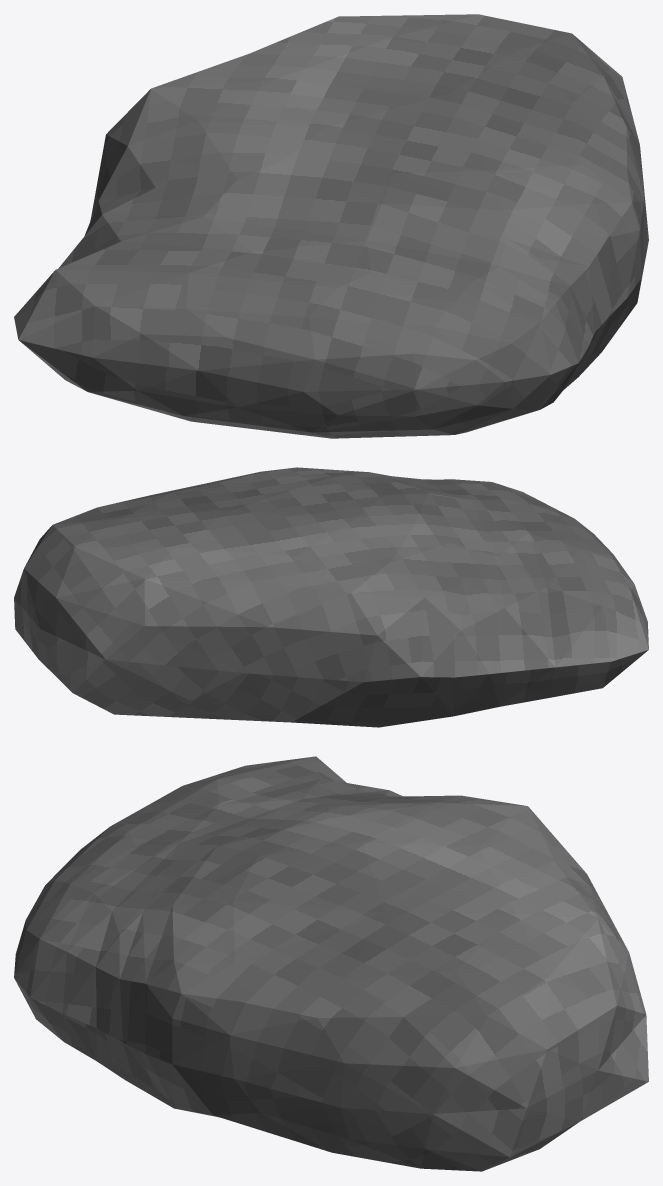
File: Rock_01.fbx
The picture shows the model from 3 angles, top to bottom: view 1: azimuth 30°, elevation 25°; view 2: azimuth 150°, elevation 25°; view 3: azimuth 270°, elevation 25°; orthographic projection. The views are drawn at different scales.
Parts seen in each view (by area): view 1: Rock_01; view 2: Rock_01; view 3: Rock_01.
Part boxes in pixels (x1,y1,x2,y2): Rock_01: (14,14,648,438); Rock_01: (14,467,648,727); Rock_01: (14,756,648,1171).
Size of the model in its own units: 5.32 by 1.55 by 4.48.
Materials: 1 (1 with a texture image).
